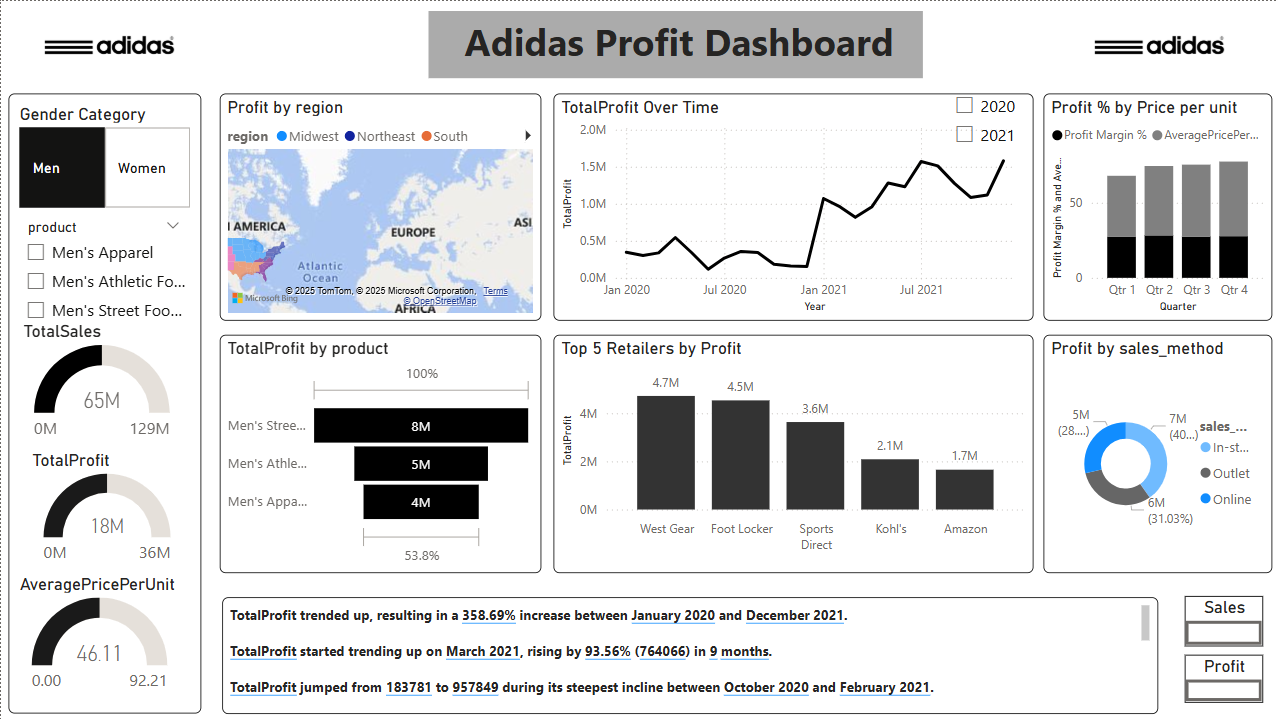

Layout of this report page (visuals, bound fields, positions):
{"tool":"powerbi","page":{"name":"Page 2","canvas":[1280,720],"ordinal":1},"visuals":[{"type":"shape","box":[7.1,92.9,192.9,620],"z":0},{"type":"lineChart","title":"TotalProfit Over Time","fields":{"Y":[" Measure.TotalProfit"],"Category":["Adidas US Sales.invoice_date.Variation.Date Hierarchy.Year","Adidas US Sales.invoice_date.Variation.Date Hierarchy.Month"]},"box":[552.9,92.9,480,227.1],"z":1000},{"type":"filledMap","title":"Profit by region","fields":{"Series":["Adidas US Sales.region"],"Category":["Adidas US Sales.state","Adidas US Sales.region"]},"box":[218.6,92.9,321.4,227.1],"z":2000},{"type":"funnel","fields":{"Category":["Adidas US Sales.product"],"Y":[" Measure.TotalProfit"]},"box":[218.6,334.3,321.4,238.6],"z":3000},{"type":"gauge","fields":{"Y":[" Measure.TotalProfit"]},"box":[25.7,448.6,160,124.3],"z":4000},{"type":"gauge","fields":{"Y":[" Measure.AveragePricePerUnit"]},"box":[14.3,572.9,170,128.6],"z":5000},{"type":"advancedSlicerVisual","fields":{"Values":["Adidas US Sales.Gender Category"]},"box":[14.3,102.9,181.4,110],"z":6000},{"type":"slicer","fields":{"Values":["Adidas US Sales.product"]},"box":[14.3,212.9,177.1,138.6],"z":7000},{"type":"clusteredColumnChart","title":"Top 5 Retailers by Profit","fields":{"Y":[" Measure.TotalProfit"],"Category":["Adidas US Sales.retailer"]},"box":[552.9,334.3,480,238.6],"z":8000},{"type":"donutChart","title":"Profit by sales_method","fields":{"Category":["Adidas US Sales.sales_method"],"Y":[" Measure.TotalProfit"]},"box":[1042.9,334.3,228.6,238.6],"z":9000},{"type":"image","box":[15.7,0,184.3,90],"z":10000},{"type":"textbox","box":[427.1,10,494.3,67.1],"z":11000},{"type":"slicer","fields":{"Values":["Adidas US Sales.invoice_date.Variation.Date Hierarchy.Year"]},"box":[947.1,90,85.7,57.1],"z":12000},{"type":"gauge","fields":{"Y":[" Measure.TotalSales"]},"box":[17.1,320,167.1,128.6],"z":13000},{"type":"columnChart","title":"Profit %  by Price per unit","fields":{"Y":[" Measure.Profit Margin %"," Measure.AveragePricePerUnit"],"Category":["Adidas US Sales.invoice_date.Variation.Date Hierarchy.Quarter"]},"box":[1042.9,92.9,228.6,227.1],"z":14000},{"type":"image","box":[1065.7,0,184.3,90],"z":15000},{"type":"textbox","box":[221.4,595.7,935.7,117.1],"z":16000},{"type":"actionButton","title":"Sales","box":[1183.7,595.5,78.3,50.1],"z":17000},{"type":"actionButton","title":"Profit","box":[1183.7,654.2,78.3,47.7],"z":18000}]}

Visuals, with their boxes in screenshot pixels (x1, y1, x2, y2), scaled from the page's 1280x720 canvas onto the 1276x719 screenshot:
shape: (7, 93, 199, 712)
"TotalProfit Over Time" lineChart: (551, 93, 1030, 320)
"Profit by region" filledMap: (218, 93, 538, 320)
funnel - Adidas US Sales.product x  Measure.TotalProfit: (218, 334, 538, 572)
gauge -  Measure.TotalProfit: (26, 448, 185, 572)
gauge -  Measure.AveragePricePerUnit: (14, 572, 184, 701)
advancedSlicerVisual - Adidas US Sales.Gender Category: (14, 103, 195, 213)
slicer - Adidas US Sales.product: (14, 213, 191, 351)
"Top 5 Retailers by Profit" clusteredColumnChart: (551, 334, 1030, 572)
"Profit by sales_method" donutChart: (1040, 334, 1268, 572)
image: (16, 0, 199, 90)
textbox: (426, 10, 919, 77)
slicer - Adidas US Sales.invoice_date.Variation.Date Hierarchy.Year: (944, 90, 1030, 147)
gauge -  Measure.TotalSales: (17, 320, 184, 448)
"Profit %  by Price per unit" columnChart: (1040, 93, 1268, 320)
image: (1062, 0, 1246, 90)
textbox: (221, 595, 1153, 712)
"Sales" actionButton: (1180, 595, 1258, 645)
"Profit" actionButton: (1180, 653, 1258, 701)
